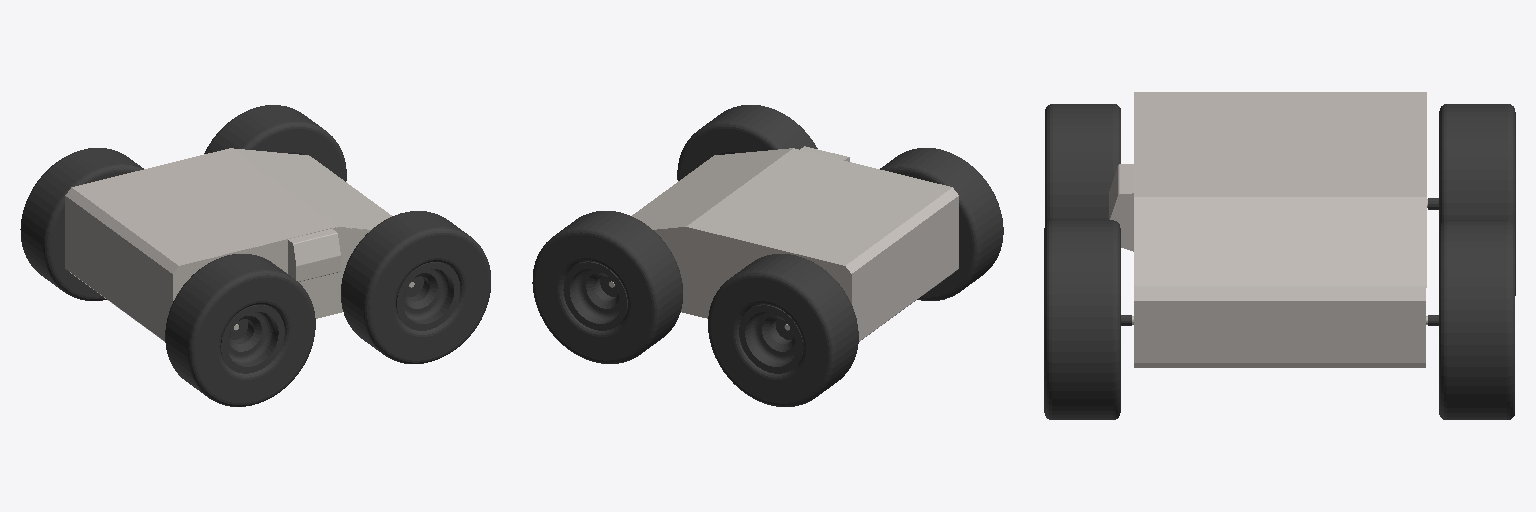
robot.urdf — drrobot_jaguar_description:
<robot
  name="drrobot_jaguar_description">
  <link
    name="base_footprint">
    <inertial>
      <origin
        xyz="0 0 0"
        rpy="0 0 0" />
      <mass
        value="0.0001" />
      <inertia
        ixx="0.0001"
        ixy="0.0"
        ixz="0.0"
        iyy="0.0001"
        iyz="0.0"
        izz="0.0001" />
    </inertial>
    <visual>
      <origin
        xyz="0 0 0"
        rpy="0 0 0" />
      <geometry>
        <box size="0.001 0.001 0.001" />
      </geometry>
      <material
        name="">
        <color
          rgba="0.64706 0.61961 0.58431 1" />
      </material>
    </visual>
  </link>

  <link
    name="laser">
    <inertial>
      <origin
        xyz="0 0 0"
        rpy="0 0 0" />
      <mass
        value="0.0001" />
      <inertia
        ixx="0.0001"
        ixy="0.0"
        ixz="0.0"
        iyy="0.0001"
        iyz="0.0"
        izz="0.0001" />
    </inertial>
    <visual>
      <origin
        xyz="0 0 0"
        rpy="0 0 0" />
      <geometry>
        <box size="0.001 0.001 0.001" />
      </geometry>
      <material
        name="">
        <color
          rgba="0.64706 0.61961 0.58431 1" />
      </material>
    </visual>
  </link>
<joint
    name="laser_joint"
    type="fixed">
    <origin
      xyz="0.182 0 0.08"
      rpy="0 0 0" />
    <parent
      link="base_link" />
    <child
      link="laser" />
  </joint>

  <link
    name="base_link">
    <inertial>
      <origin
        xyz="-0.00221359785124025 -0.0292579888224023 -0.0024951598946823"
        rpy="0 0 0" />
      <mass
        value="26.13043204203493" />
      <inertia
        ixx="0.0276002632944681"
        ixy="-0.000914692698189266"
        ixz="-0.000840772240971686"
        iyy="0.030763549536253"
        iyz="-0.00131984234245519"
        izz="0.0492606675203303" />
    </inertial>
    <visual>
      <origin
        xyz="0 0 0"
        rpy="0 0 0" />
      <geometry>
        <mesh
          filename="package://drrobot_jaguar_description/meshes/base_link.STL" />
      </geometry>
      <material
        name="">
        <color
          rgba="0.776470588235294 0.756862745098039 0.737254901960784 1" />
      </material>
    </visual>
    <collision>
      <origin
        xyz="0 0 0"
        rpy="0 0 0" />
      <geometry>
        <mesh
          filename="package://drrobot_jaguar_description/meshes/base_link.STL" />
      </geometry>
    </collision>
  </link>


 <joint
    name="base_footprint_joint"
    type="fixed">
    <origin
      xyz="0 0 0.16"
      rpy="0 0 0" />
    <parent
      link="base_footprint" />
    <child
      link="base_link" />
  </joint>

  <link
    name="Wheel_FL">
    <inertial>
      <origin
        xyz="0.0255571013702725 0 -5.55111512312578E-17"
        rpy="0 0 0" />
      <mass
        value="1.01785236539895" />
      <inertia
        ixx="0.0498351948386199"
        ixy="-5.82051814966513E-19"
        ixz="-9.15389267693399E-19"
        iyy="0.0309425807772029"
        iyz="-4.33680868994202E-18"
        izz="0.0309425807772029" />
    </inertial>
    <visual>
      <origin
        xyz="0 0 0"
        rpy="0 0 0" />
      <geometry>
        <mesh
          filename="package://drrobot_jaguar_description/meshes/Wheel_FL.STL" />
      </geometry>
      <material
        name="">
        <color
          rgba="0.294117647058824 0.294117647058824 0.294117647058824 1" />
      </material>
    </visual>
    <collision>
      <origin
        xyz="0 0 0"
        rpy="0 0 0" />
      <geometry>
        <mesh
          filename="package://drrobot_jaguar_description/meshes/Wheel_FL.STL" />
      </geometry>
    </collision>
  </link>
  <joint
    name="Joint_FL"
    type="continuous">
    <origin
      xyz="0.20027 0.2698 -0.038046"
      rpy="-1.8468 -6.123E-17 -1.5708" />
    <parent
      link="base_link" />
    <child
      link="Wheel_FL" />
    <axis
      xyz="-1 0 0" />
  </joint>
  <link
    name="Wheel_FR">
    <inertial>
      <origin
        xyz="0.0140413640731467 0 -5.55111512312578E-17"
        rpy="0 0 0" />
      <mass
        value="1.01785236539895" />
      <inertia
        ixx="0.0498351948386199"
        ixy="9.00217946897549E-19"
        ixz="2.19866532783779E-19"
        iyy="0.0310055842319982"
        iyz="0"
        izz="0.0310055842319983" />
    </inertial>
    <visual>
      <origin
        xyz="0 0 0"
        rpy="0 0 0" />
      <geometry>
        <mesh
          filename="package://drrobot_jaguar_description/meshes/Wheel_FR.STL" />
      </geometry>
      <material
        name="">
        <color
          rgba="0.294117647058824 0.294117647058824 0.294117647058824 1" />
      </material>
    </visual>
    <collision>
      <origin
        xyz="0 0 0"
        rpy="0 0 0" />
      <geometry>
        <mesh
          filename="package://drrobot_jaguar_description/meshes/Wheel_FR.STL" />
      </geometry>
    </collision>
  </link>
  <joint
    name="Joint_FR"
    type="continuous">
    <origin
      xyz="0.20027 -0.23063 -0.038046"
      rpy="-1.572 -6.123E-17 -1.5708" />
    <parent
      link="base_link" />
    <child
      link="Wheel_FR" />
    <axis
      xyz="-1 0 0" />
  </joint>
  <link
    name="Wheel_RR">
    <inertial>
      <origin
        xyz="0.0140977657024902 -1.38777878078145E-17 2.77555756156289E-17"
        rpy="0 0 0" />
      <mass
        value="1.01785236539896" />
      <inertia
        ixx="0.0498351948386199"
        ixy="-8.35270082805769E-19"
        ixz="-7.24989206083506E-19"
        iyy="0.0309378902983738"
        iyz="0"
        izz="0.0309378902983738" />
    </inertial>
    <visual>
      <origin
        xyz="0 0 0"
        rpy="0 0 0" />
      <geometry>
        <mesh
          filename="package://drrobot_jaguar_description/meshes/Wheel_RR.STL" />
      </geometry>
      <material
        name="">
        <color
          rgba="0.294117647058824 0.294117647058824 0.294117647058824 1" />
      </material>
    </visual>
    <collision>
      <origin
        xyz="0 0 0"
        rpy="0 0 0" />
      <geometry>
        <mesh
          filename="package://drrobot_jaguar_description/meshes/Wheel_RR.STL" />
      </geometry>
    </collision>
  </link>
  <joint
    name="Joint_RR"
    type="continuous">
    <origin
      xyz="-0.1502 -0.22993 -0.038179"
      rpy="-1.7446 -6.123E-17 -1.5708" />
    <parent
      link="base_link" />
    <child
      link="Wheel_RR" />
    <axis
      xyz="-1 0 0" />
  </joint>
  <link
    name="Wheel_RL">
    <inertial>
      <origin
        xyz="0.0257210773307773 -6.93889390390723E-18 2.77555756156289E-17"
        rpy="0 0 0" />
      <mass
        value="1.01785236539896" />
      <inertia
        ixx="0.0498351948386199"
        ixy="-3.60551519238553E-20"
        ixz="-1.38767699104207E-18"
        iyy="0.0309537657552617"
        iyz="-4.33680868994202E-19"
        izz="0.0309537657552617" />
    </inertial>
    <visual>
      <origin
        xyz="0 0 0"
        rpy="0 0 0" />
      <geometry>
        <mesh
          filename="package://drrobot_jaguar_description/meshes/Wheel_RL.STL" />
      </geometry>
      <material
        name="">
        <color
          rgba="0.294117647058824 0.294117647058824 0.294117647058824 1" />
      </material>
    </visual>
    <collision>
      <origin
        xyz="0 0 0"
        rpy="0 0 0" />
      <geometry>
        <mesh
          filename="package://drrobot_jaguar_description/meshes/Wheel_RL.STL" />
      </geometry>
    </collision>
  </link>
  <joint
    name="Joint_RL"
    type="continuous">
    <origin
      xyz="-0.1502 0.27033 -0.038179"
      rpy="-1.5934 -6.123E-17 -1.5708" />
    <parent
      link="base_link" />
    <child
      link="Wheel_RL" />
    <axis
      xyz="-1 0 0" />
  </joint>
</robot>

--- Facts derived from the render (not from the file) ---
Views: 3 orthographic renders of the robot side by side, from view 1: azimuth 30°, elevation 25°; view 2: azimuth 150°, elevation 25°; view 3: azimuth 270°, elevation 25°.
Robot: drrobot_jaguar_description — 7 links, 6 joints (4 continuous, 2 fixed); root link base_footprint; default pose: every joint at zero.
Visible links, largest first — view 1: base_link, Wheel_RR, Wheel_FR, Wheel_RL, Wheel_FL; view 2: base_link, Wheel_RL, Wheel_FL, Wheel_RR, Wheel_FR; view 3: base_link, Wheel_FR, Wheel_FL, Wheel_RL, Wheel_RR.
Boxes of the visible links, x1,y1,x2,y2 form: base_link: (65, 148, 414, 341); Wheel_RR: (165, 254, 315, 406); Wheel_FR: (341, 211, 490, 363); Wheel_RL: (20, 148, 143, 300); Wheel_FL: (204, 105, 346, 181); base_link: (609, 146, 958, 341); Wheel_RL: (708, 254, 858, 406); Wheel_FL: (532, 211, 682, 363); Wheel_RR: (880, 148, 1003, 300); Wheel_FR: (677, 105, 817, 180); base_link: (1109, 92, 1427, 367); Wheel_FR: (1044, 220, 1131, 419); Wheel_FL: (1428, 220, 1514, 419); Wheel_RL: (1428, 104, 1515, 295); Wheel_RR: (1045, 104, 1120, 224).
Size in the robot's own frame: 0.6044 by 0.5975 by 0.2541 metres.
Meshes: 5 distinct files referenced, 5 mesh visuals loaded (5 binary STL).